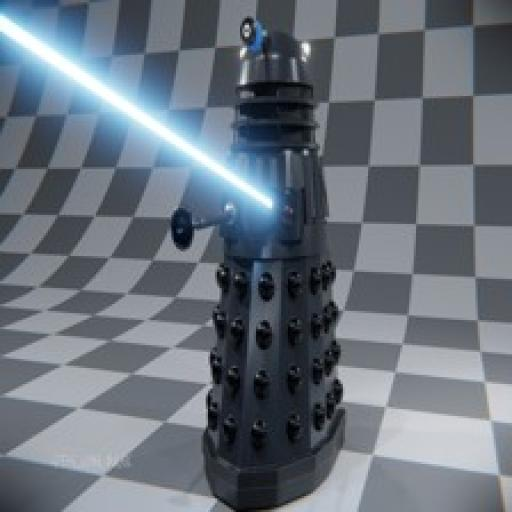dalek: (157, 22, 348, 512)
